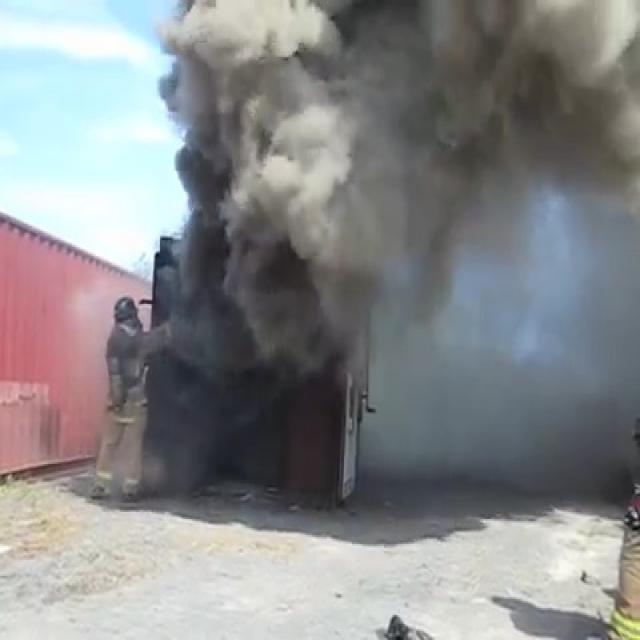Smoke: (176, 2, 638, 302)
